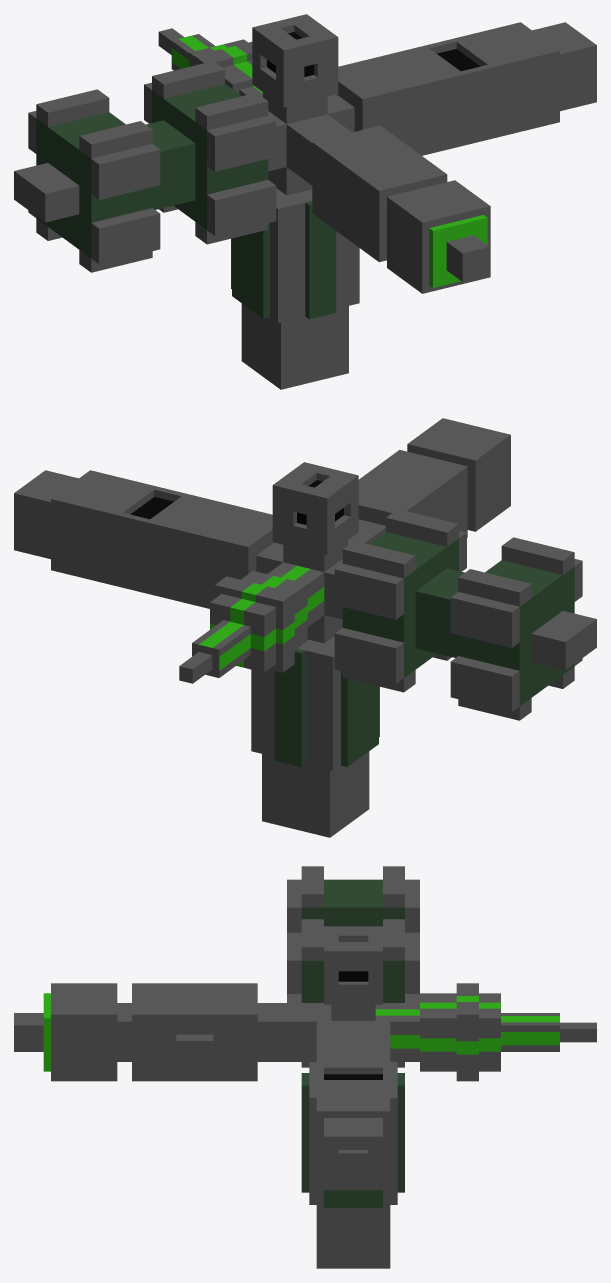
File: ISS_animated_texture.glb
3 views of the same model, one above another, from view 1: azimuth 30°, elevation 25°; view 2: azimuth 150°, elevation 25°; view 3: azimuth 270°, elevation 25° (orthographic). The views are drawn at different scales.
Visible parts, largest first — view 1: Plane; view 2: Plane; view 3: Plane.
Boxes of the visible parts, x1,y1,x2,y2 form: Plane: (14, 14, 596, 389); Plane: (14, 418, 596, 837); Plane: (14, 866, 596, 1268).
Bounding box in the file's own units: 82 × 47 × 79.
1 material, 1 textured.
